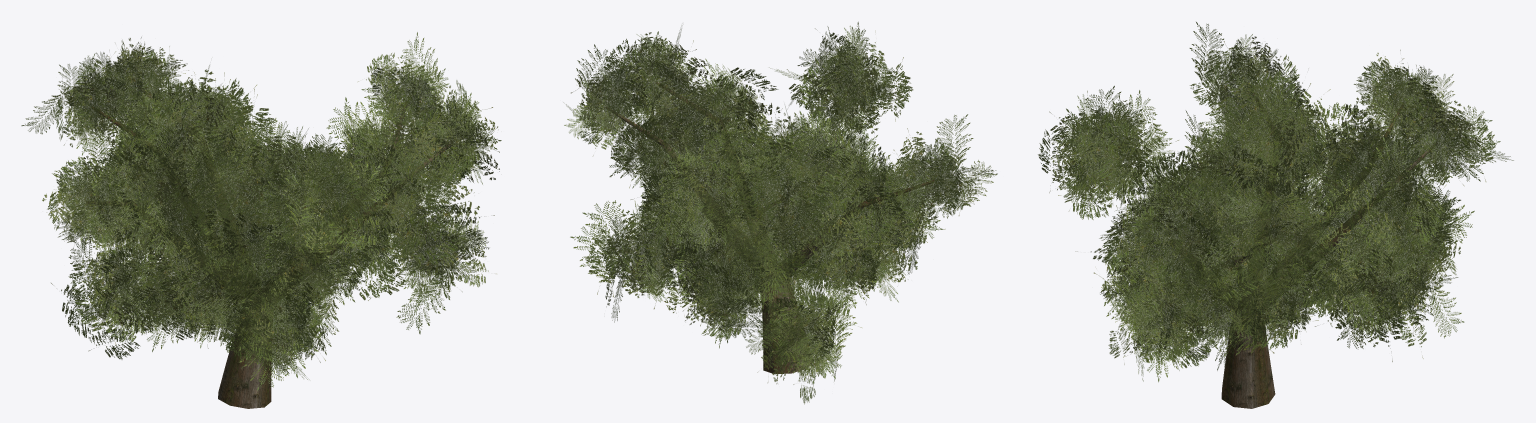
Rendered from olive_4.glb.
3 views of the same model, side by side, from view 1: azimuth 30°, elevation 25°; view 2: azimuth 150°, elevation 25°; view 3: azimuth 270°, elevation 25° (orthographic). The views are drawn at different scales.
Visible parts, largest first — view 1: olive; view 2: olive; view 3: olive.
Boxes of the visible parts, x1=… form: olive: x1=21, y1=32, x2=501, y2=408; olive: x1=564, y1=22, x2=997, y2=404; olive: x1=1038, y1=22, x2=1513, y2=408.
Size of the model in its own units: 8.1 by 5.4 by 7.43.
Materials: 2 (2 with a texture image).
